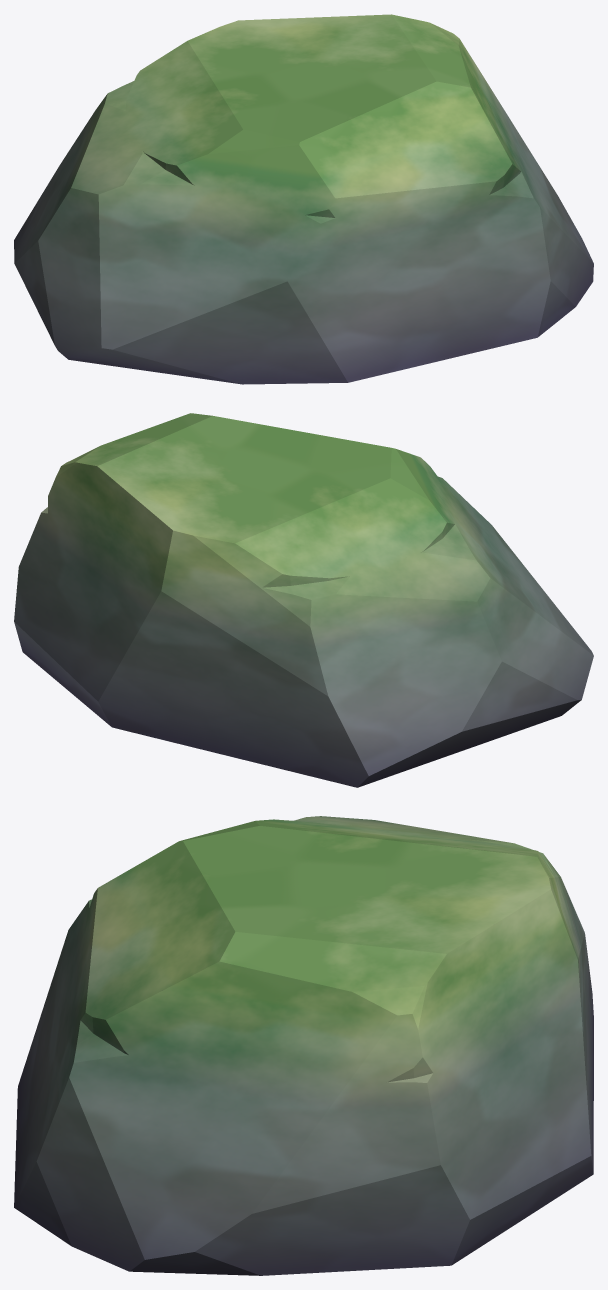
Rendered from rock_huge.fbx.
3 renders of one model, top to bottom at view 1: azimuth 30°, elevation 25°; view 2: azimuth 150°, elevation 25°; view 3: azimuth 270°, elevation 25°, orthographic. The views are drawn at different scales.
Visible parts, largest first — view 1: Sphere; view 2: Sphere; view 3: Sphere.
Boxes of the visible parts, box(x1,y1,x2,y2) form: Sphere: box(14, 14, 593, 384); Sphere: box(14, 413, 593, 787); Sphere: box(14, 816, 593, 1275).
Bounding box in the file's own units: 741 × 283 × 560.
Materials: 1 (1 with a texture image).
